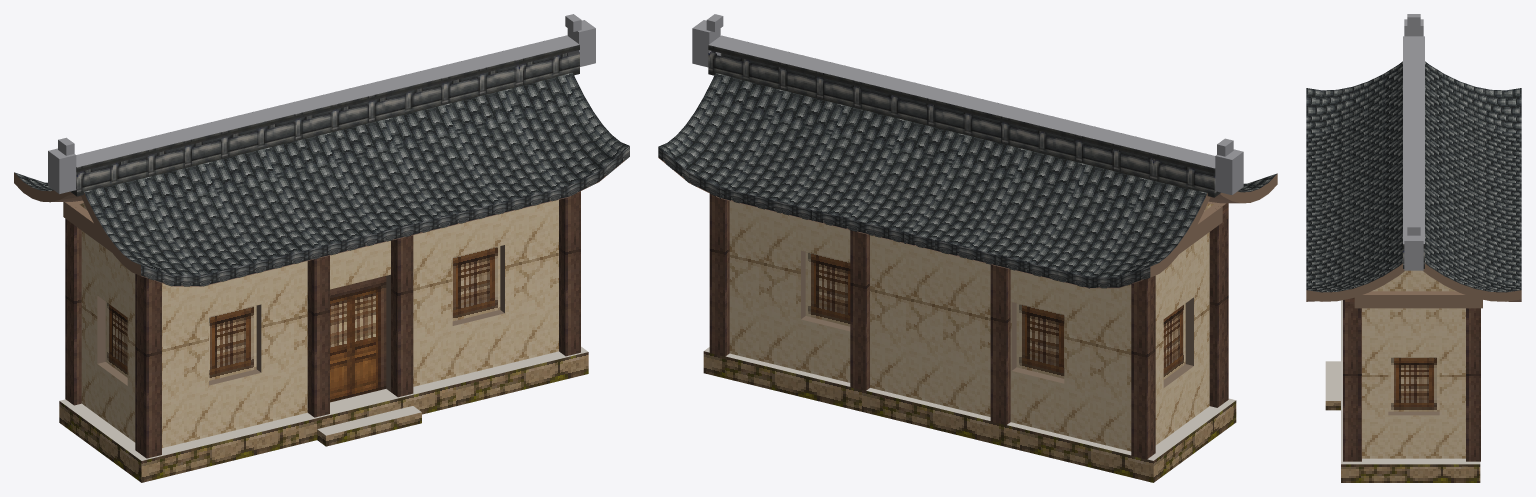
The model's file is b_hut_b.glb.
The picture shows the model from 3 angles, left to right: view 1: azimuth 30°, elevation 25°; view 2: azimuth 150°, elevation 25°; view 3: azimuth 270°, elevation 25°; orthographic projection. The views are drawn at different scales.
Visible parts, largest first — view 1: roof, plaster, post, ridge, stone, ridgeend, win, door, eave, stonetop, reveal, wood; view 2: plaster, roof, post, ridge, stone, ridgeend, win, eave, stonetop, reveal, wood; view 3: roof, plaster, ridgeend, post, wood, win, stone, stonetop, reveal.
Part boxes in pixels (x1=…): roof: x1=14, y1=72, x2=629, y2=275; plaster: x1=79, y1=199, x2=558, y2=447; post: x1=65, y1=191, x2=580, y2=458; ridge: x1=70, y1=44, x2=579, y2=196; stone: x1=59, y1=352, x2=588, y2=482; ridgeend: x1=48, y1=14, x2=595, y2=193; win: x1=105, y1=246, x2=500, y2=380; door: x1=330, y1=276, x2=386, y2=402; eave: x1=141, y1=146, x2=629, y2=286; stonetop: x1=59, y1=346, x2=587, y2=460; reveal: x1=97, y1=245, x2=504, y2=391; wood: x1=14, y1=172, x2=140, y2=275; plaster: x1=729, y1=201, x2=1213, y2=451; roof: x1=658, y1=73, x2=1277, y2=277; post: x1=709, y1=194, x2=1228, y2=459; ridge: x1=708, y1=45, x2=1220, y2=197; stone: x1=703, y1=351, x2=1236, y2=482; ridgeend: x1=692, y1=14, x2=1243, y2=194; win: x1=805, y1=252, x2=1185, y2=379; eave: x1=658, y1=147, x2=1150, y2=288; stonetop: x1=704, y1=347, x2=1235, y2=460; reveal: x1=801, y1=250, x2=1193, y2=387; wood: x1=1150, y1=174, x2=1277, y2=277; roof: x1=1306, y1=61, x2=1521, y2=292; plaster: x1=1362, y1=270, x2=1465, y2=458; ridgeend: x1=1403, y1=14, x2=1424, y2=270; post: x1=1343, y1=300, x2=1480, y2=461; wood: x1=1306, y1=263, x2=1521, y2=308; win: x1=1388, y1=357, x2=1439, y2=411; stone: x1=1325, y1=401, x2=1480, y2=482; stonetop: x1=1325, y1=300, x2=1480, y2=464; reveal: x1=1388, y1=411, x2=1439, y2=415.
Size of the model in its own units: 76.8 by 43.45 by 31.46.
Materials: 14 (9 with a texture image).
